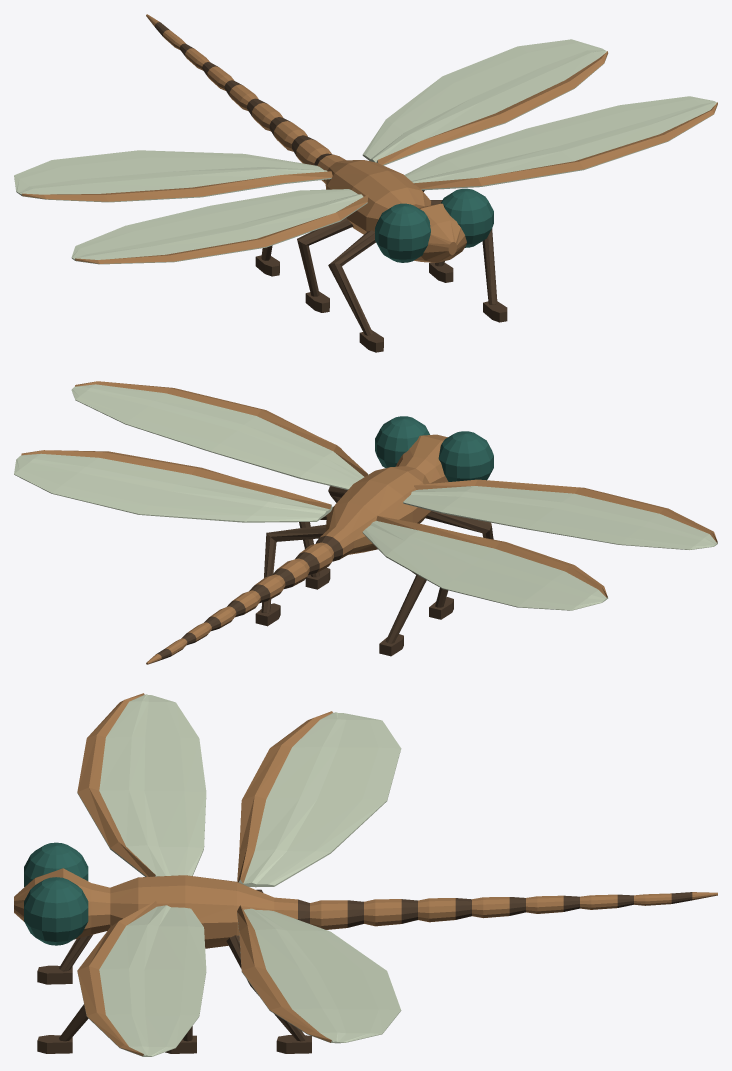
3 renders of one model, top to bottom at view 1: azimuth 30°, elevation 25°; view 2: azimuth 150°, elevation 25°; view 3: azimuth 270°, elevation 25°, orthographic. The views are drawn at different scales.
Parts seen in each view (by area): view 1: RightBroadRootHindwing, RightLongForewing, LeftLongForewing, LeftBroadRootHindwing, ContinuousHeadThoraxAndSegmentedLongAbdomen, LeftLargeRoundedEye, RightLargeRoundedEye, LeftForeBentLeg, LeftMiddleBentLeg, RightForeBentLeg; view 2: RightBroadRootHindwing, RightLongForewing, LeftLongForewing, LeftBroadRootHindwing, ContinuousHeadThoraxAndSegmentedLongAbdomen, LeftLargeRoundedEye, RightLargeRoundedEye, RightHindBentLeg, LeftHindBentLeg, LeftForeBentLeg; view 3: LeftBroadRootHindwing, LeftLongForewing, ContinuousHeadThoraxAndSegmentedLongAbdomen, RightLongForewing, RightBroadRootHindwing, RightLargeRoundedEye, LeftLargeRoundedEye, LeftForeFlatFoot, RightForeFlatFoot, RightHindFlatFoot.
Boxes of the visible parts, left/top/right/bottom form: RightBroadRootHindwing: left=362, top=39, right=608, bottom=165; RightLongForewing: left=404, top=96, right=717, bottom=190; LeftLongForewing: left=71, top=189, right=368, bottom=264; LeftBroadRootHindwing: left=14, top=150, right=332, bottom=202; ContinuousHeadThoraxAndSegmentedLongAbdomen: left=146, top=14, right=466, bottom=262; LeftLargeRoundedEye: left=375, top=203, right=430, bottom=262; RightLargeRoundedEye: left=441, top=188, right=493, bottom=247; LeftForeBentLeg: left=328, top=230, right=375, bottom=335; LeftMiddleBentLeg: left=297, top=218, right=353, bottom=296; RightForeBentLeg: left=482, top=228, right=497, bottom=304; RightBroadRootHindwing: left=14, top=450, right=332, bottom=522; RightLongForewing: left=71, top=381, right=368, bottom=489; LeftLongForewing: left=403, top=479, right=717, bottom=549; LeftBroadRootHindwing: left=362, top=516, right=608, bottom=610; ContinuousHeadThoraxAndSegmentedLongAbdomen: left=146, top=434, right=448, bottom=664; LeftLargeRoundedEye: left=438, top=431, right=493, bottom=481; RightLargeRoundedEye: left=375, top=416, right=429, bottom=467; RightHindBentLeg: left=261, top=524, right=325, bottom=613; LeftHindBentLeg: left=385, top=571, right=426, bottom=643; LeftForeBentLeg: left=425, top=511, right=493, bottom=539; LeftBroadRootHindwing: left=237, top=711, right=401, bottom=887; LeftLongForewing: left=77, top=693, right=206, bottom=876; ContinuousHeadThoraxAndSegmentedLongAbdomen: left=14, top=868, right=717, bottom=948; RightLongForewing: left=77, top=901, right=206, bottom=1056; RightBroadRootHindwing: left=237, top=905, right=401, bottom=1043; RightLargeRoundedEye: left=24, top=877, right=88, bottom=945; LeftLargeRoundedEye: left=24, top=842, right=88, bottom=886; LeftForeFlatFoot: left=37, top=965, right=72, bottom=984; RightForeFlatFoot: left=37, top=1035, right=72, bottom=1053; RightHindFlatFoot: left=276, top=1035, right=311, bottom=1053.
Size of the model in its own units: 1.82 by 0.358 by 1.5.
